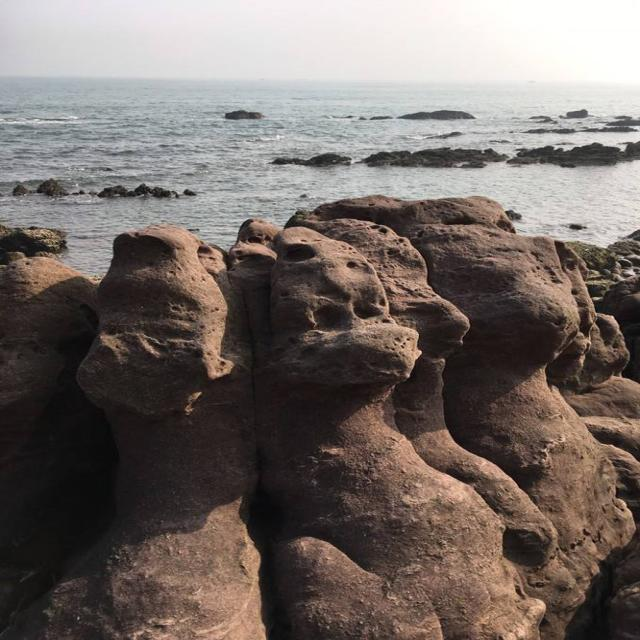reef: (202, 106, 623, 172), (6, 168, 242, 211)
